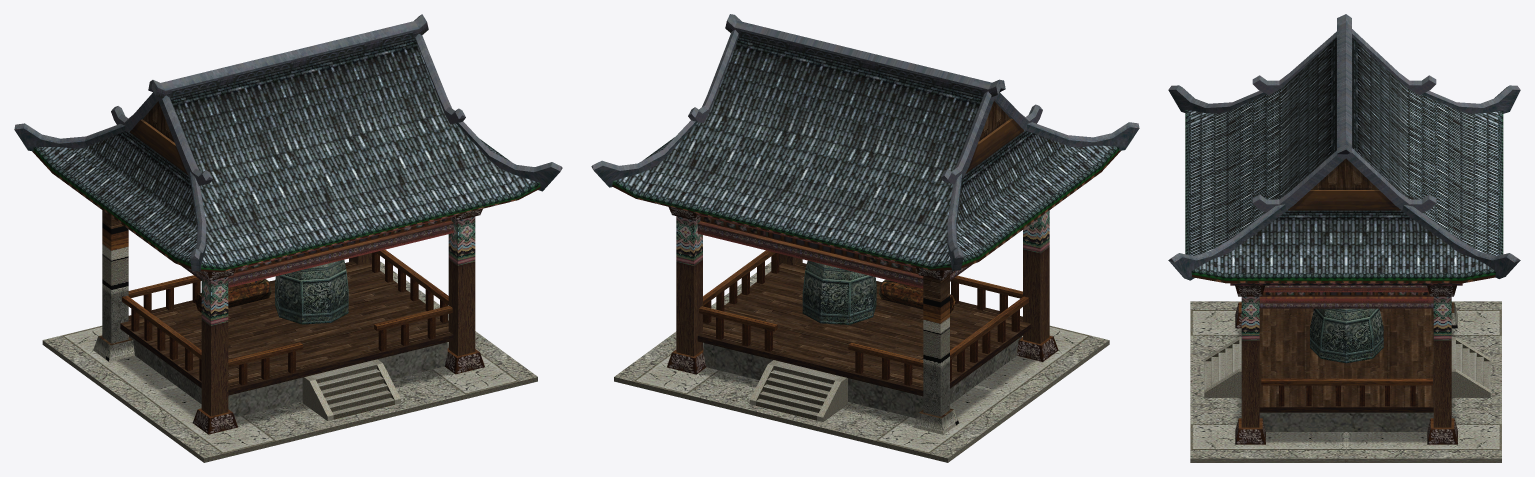
Rendered from landmark-01-bellhouse.fbx.
The picture shows the model from 3 angles, left to right: view 1: azimuth 30°, elevation 25°; view 2: azimuth 150°, elevation 25°; view 3: azimuth 270°, elevation 25°; orthographic projection. The views are drawn at different scales.
Visible parts, largest first — view 1: landmark-01-bellhouse-01, landmark-01-bellhouse-02; view 2: landmark-01-bellhouse-01, landmark-01-bellhouse-02; view 3: landmark-01-bellhouse-01, landmark-01-bellhouse-02.
Part boxes in pixels (x1,y1,x2,y2): landmark-01-bellhouse-01: (14, 14, 562, 434); landmark-01-bellhouse-02: (42, 210, 537, 462); landmark-01-bellhouse-01: (591, 14, 1139, 374); landmark-01-bellhouse-02: (614, 250, 1109, 462); landmark-01-bellhouse-01: (1168, 14, 1520, 444); landmark-01-bellhouse-02: (1190, 301, 1501, 462).
Size of the model in its own units: 12.97 by 10.56 by 11.03.
